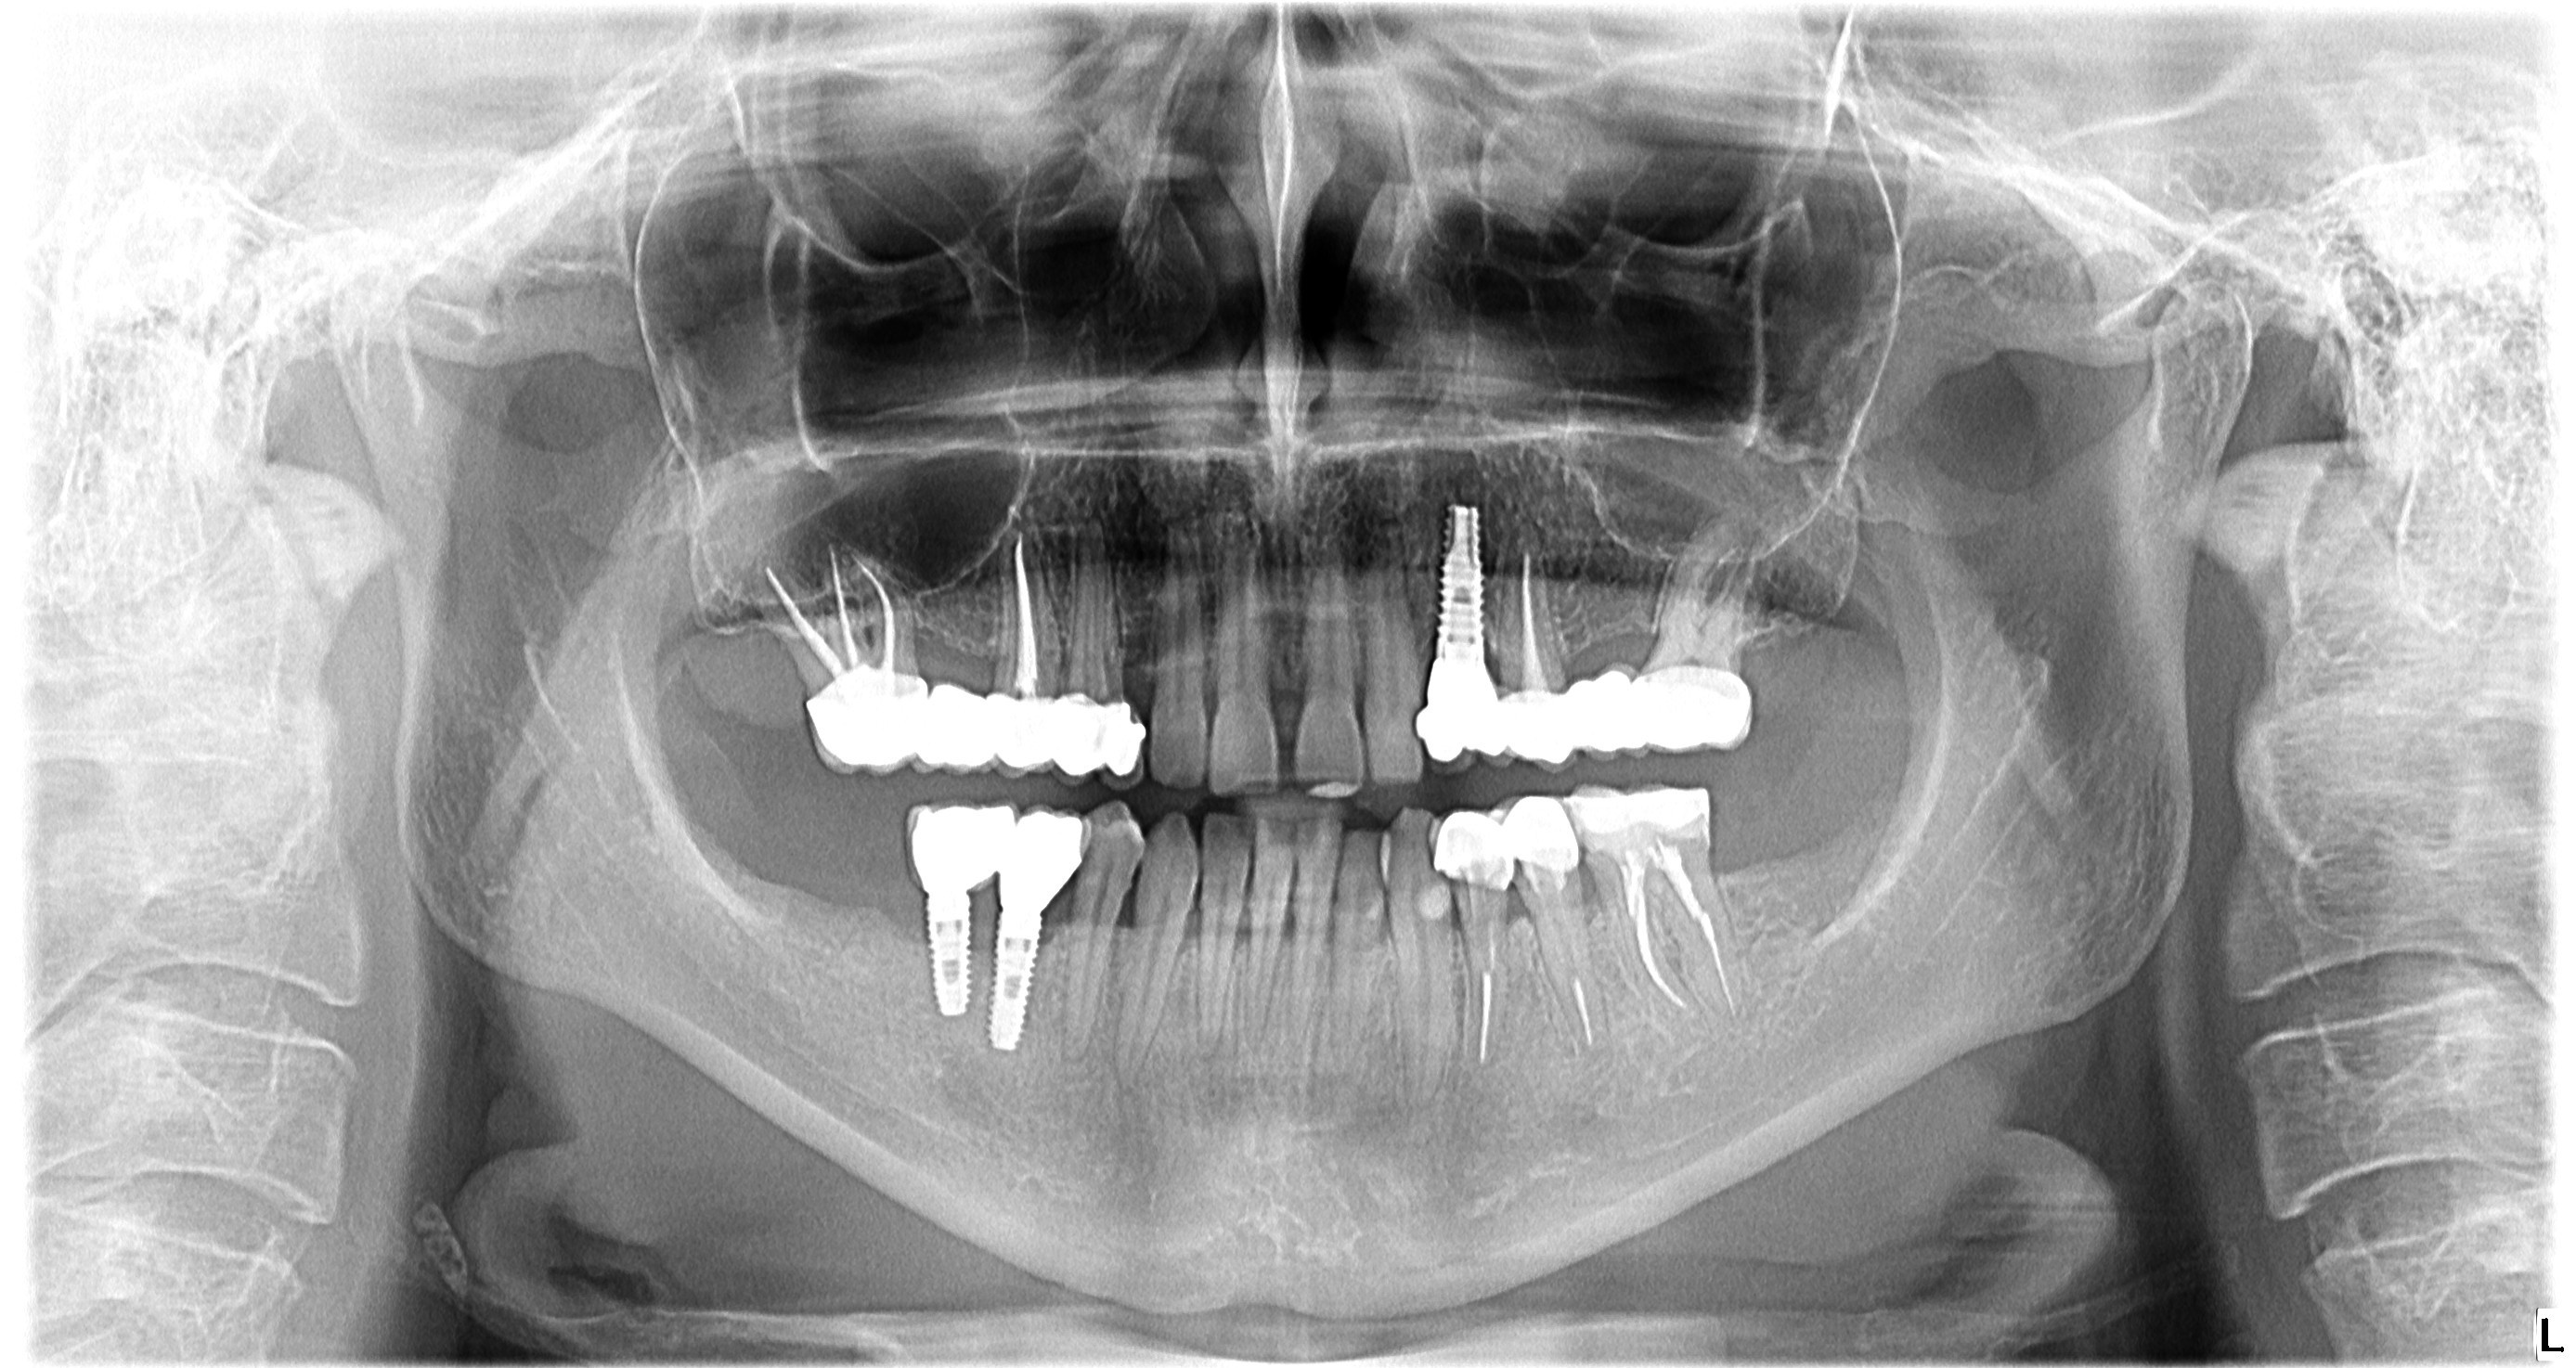END: (1622, 848, 1763, 1029), (748, 540, 920, 678), (1533, 857, 1610, 1058), (997, 520, 1061, 709), (1501, 525, 1567, 697), (1448, 884, 1506, 1073)
IMP: (976, 900, 1055, 1063), (1424, 494, 1494, 670), (908, 884, 983, 1032)
OBT: (1561, 770, 1705, 855)
PRR: (791, 664, 1150, 790), (1406, 649, 1763, 772), (901, 790, 1095, 903), (1419, 789, 1590, 898)
